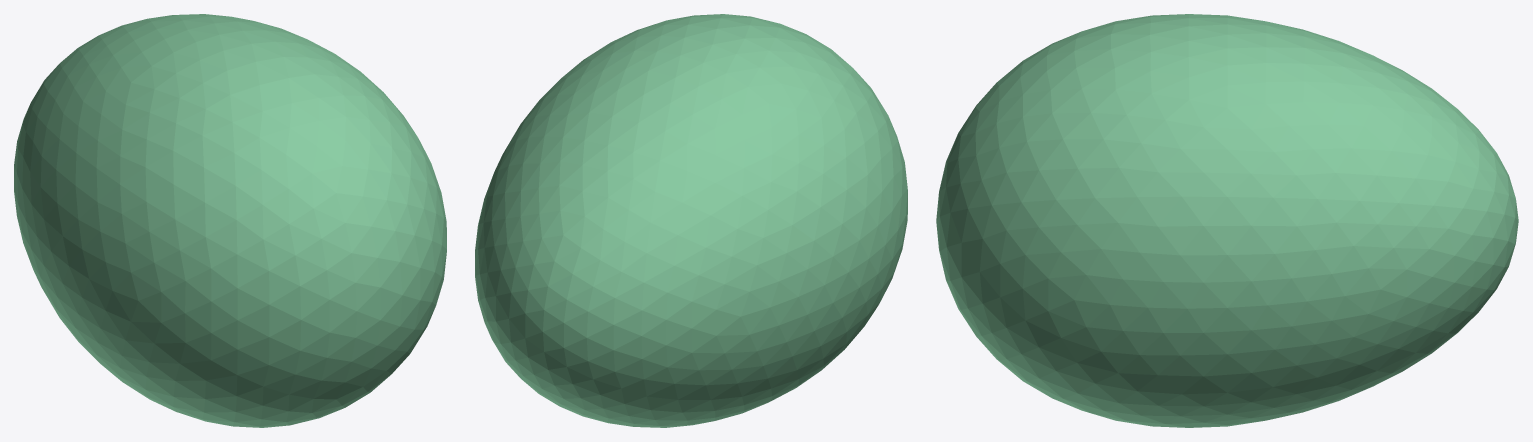
File: spore.glb
3 views of the same model, side by side, from view 1: azimuth 30°, elevation 25°; view 2: azimuth 150°, elevation 25°; view 3: azimuth 270°, elevation 25° (orthographic). The views are drawn at different scales.
Parts seen in each view (by area): view 1: pod_0; view 2: pod_0; view 3: pod_0.
Boxes of the visible parts, bbox=[...] form: pod_0: bbox=[14, 14, 446, 427]; pod_0: bbox=[475, 14, 907, 427]; pod_0: bbox=[936, 14, 1518, 427].
Bounding box in the file's own units: 1.21 × 1.21 × 1.7.
